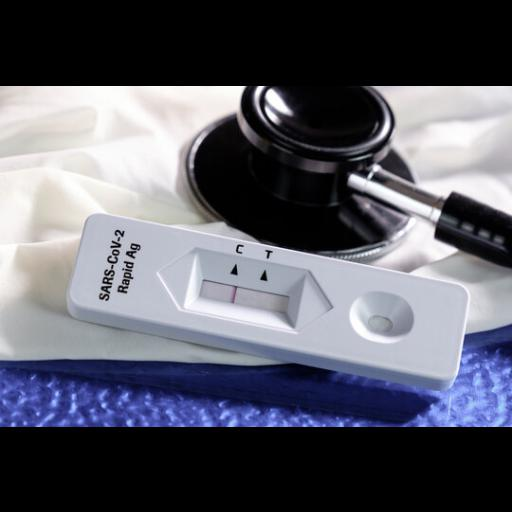Neg: (68, 209, 473, 385)
